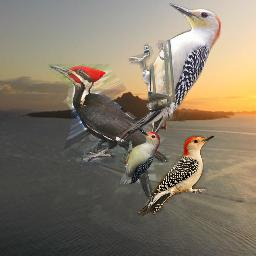Woodpecker: (48, 64, 169, 213), (117, 1, 224, 145), (138, 135, 214, 217), (120, 127, 160, 184)
